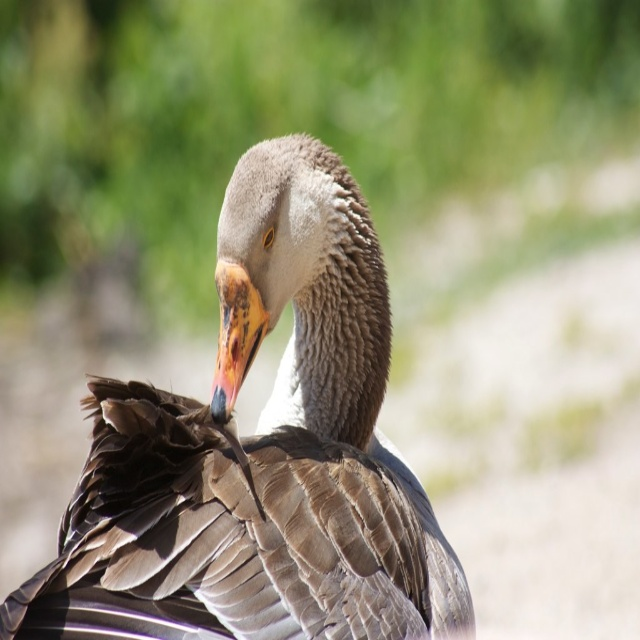Duck: (104, 148, 457, 585)
